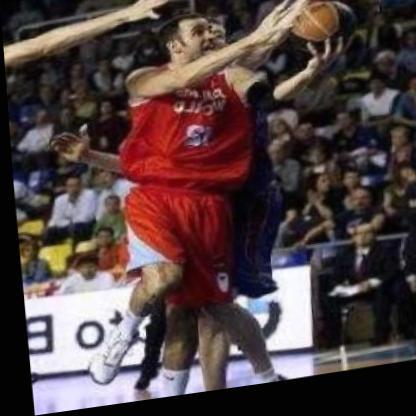basketball: (283, 0, 358, 69)
